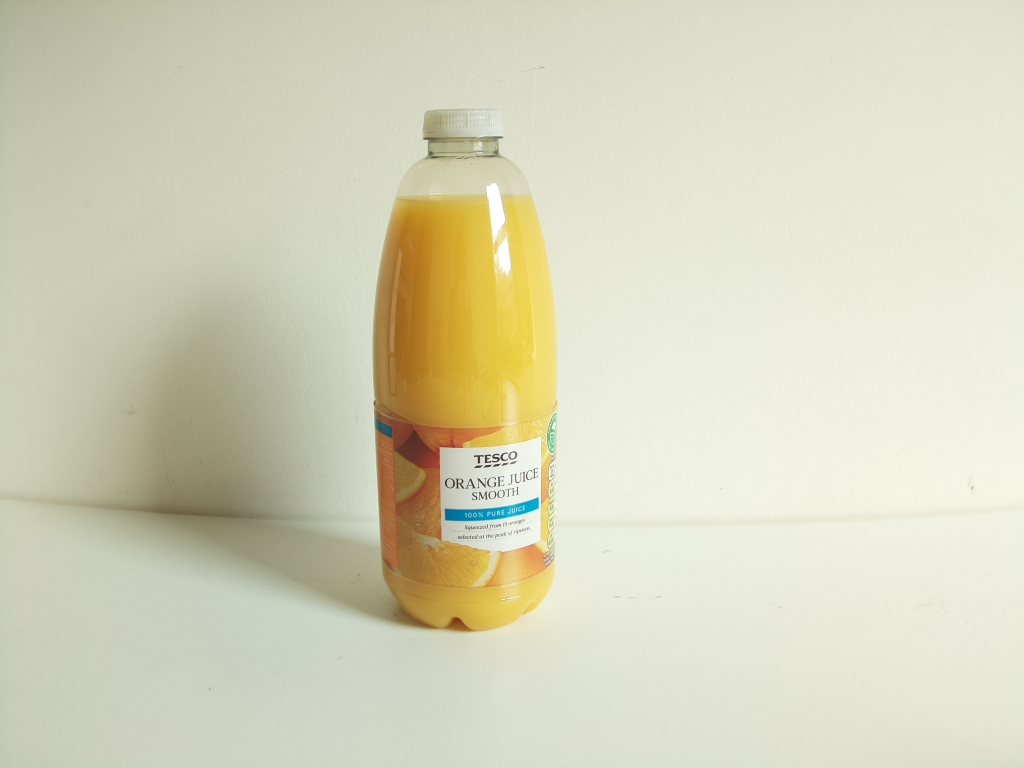juice: (370, 101, 561, 635)
